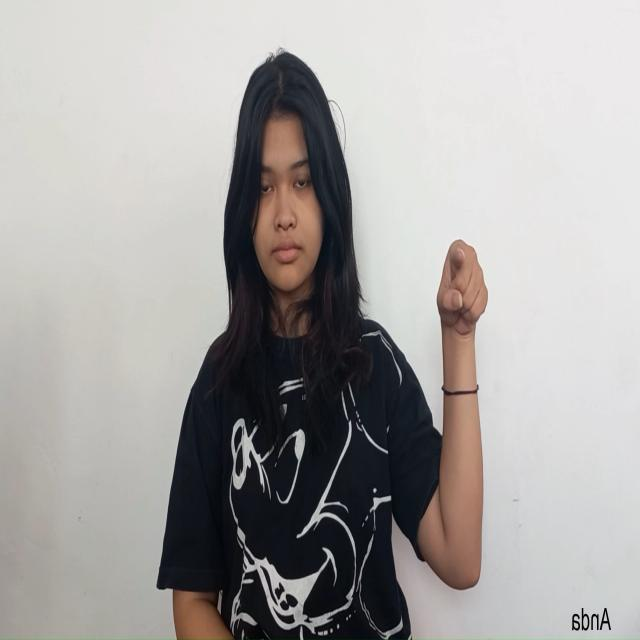Anda -BISINDO-: (436, 235, 488, 352)
